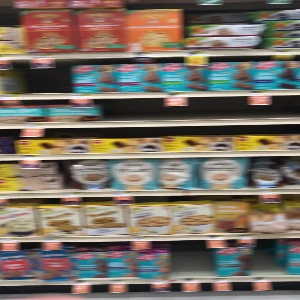void: (98, 97, 300, 123), (1, 56, 71, 96), (169, 240, 214, 278), (253, 237, 284, 277)
